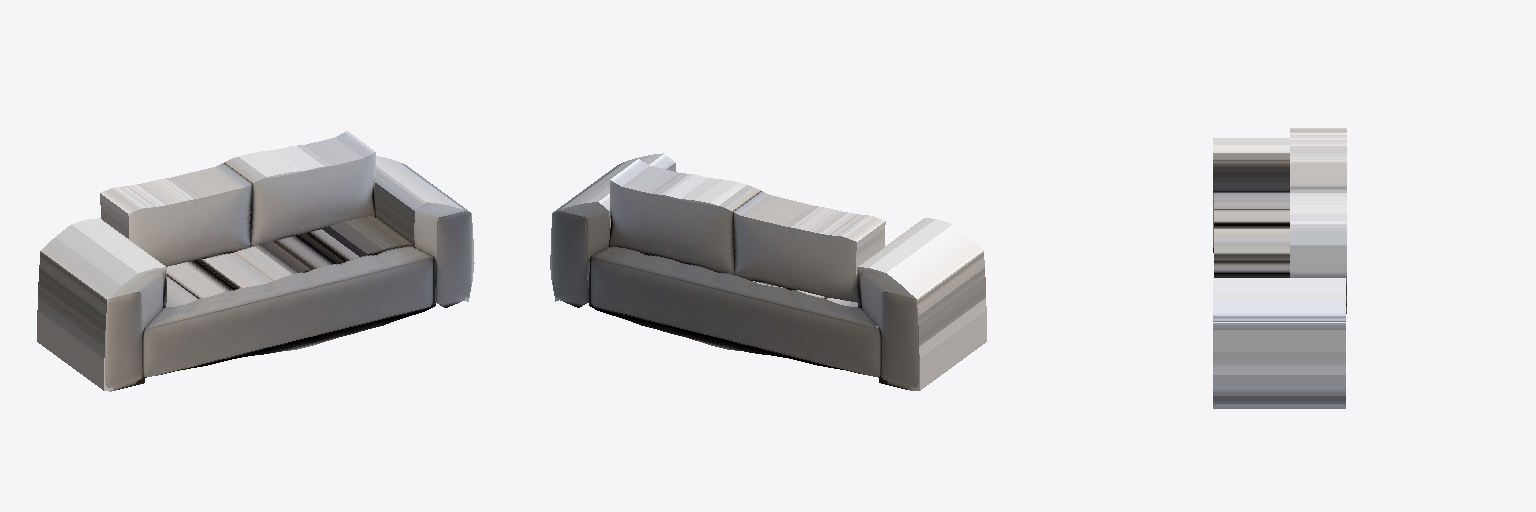
3 views of the same model, side by side, from view 1: azimuth 30°, elevation 25°; view 2: azimuth 150°, elevation 25°; view 3: azimuth 270°, elevation 25° (orthographic).
Size of the model in its own units: 1.49 by 0.5504 by 0.4693.
Materials: 1 (1 with a texture image).